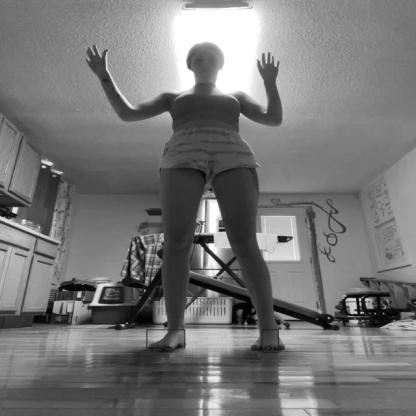person: (86, 40, 286, 356)
